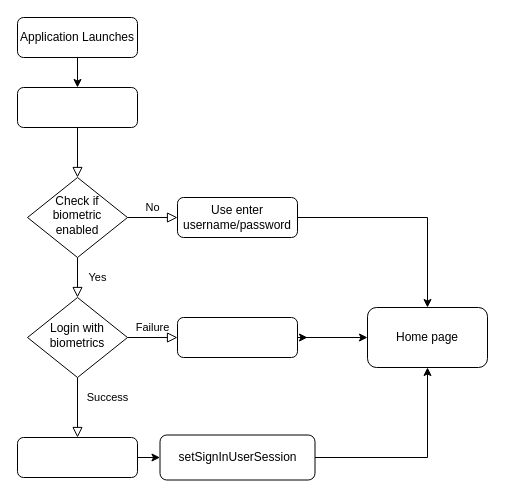
Image size: 505x498. Some labels were removed from this diagram. The box of each missing label's shape, as (x1, y1, x2, y2) in pixels:
Fetch tokens from secure storage: (16, 436, 138, 478)
Login: (16, 86, 138, 128)
user enters Username/Password: (176, 316, 298, 358)
